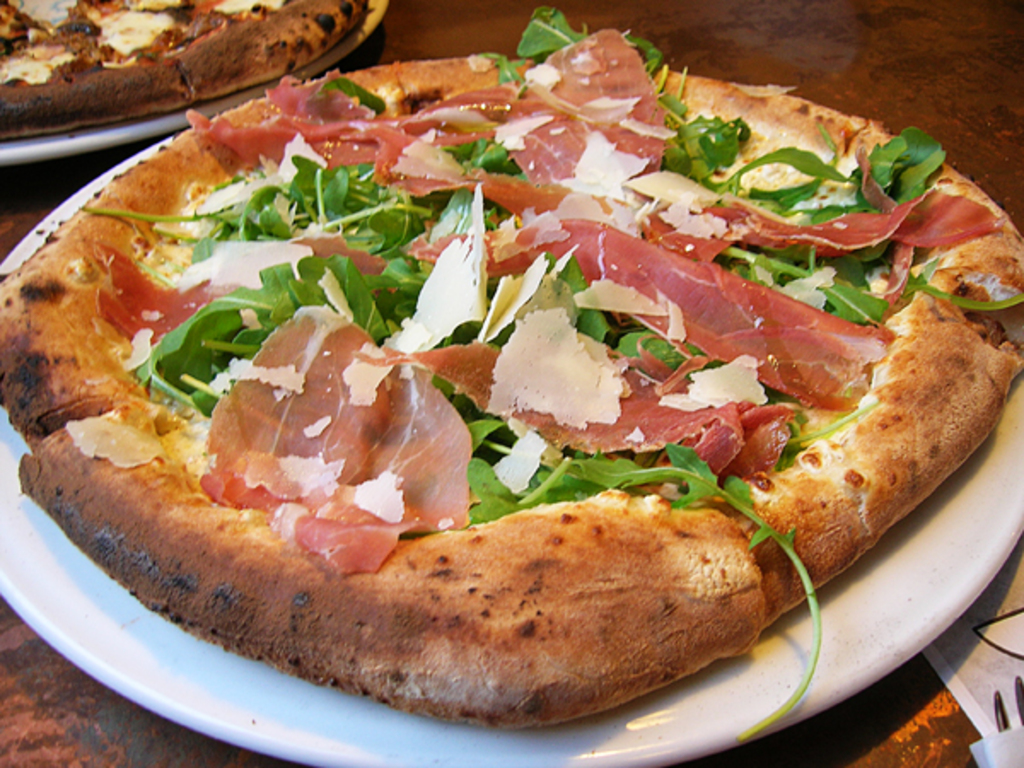Pizza: (0, 68, 960, 754), (0, 0, 377, 136)
